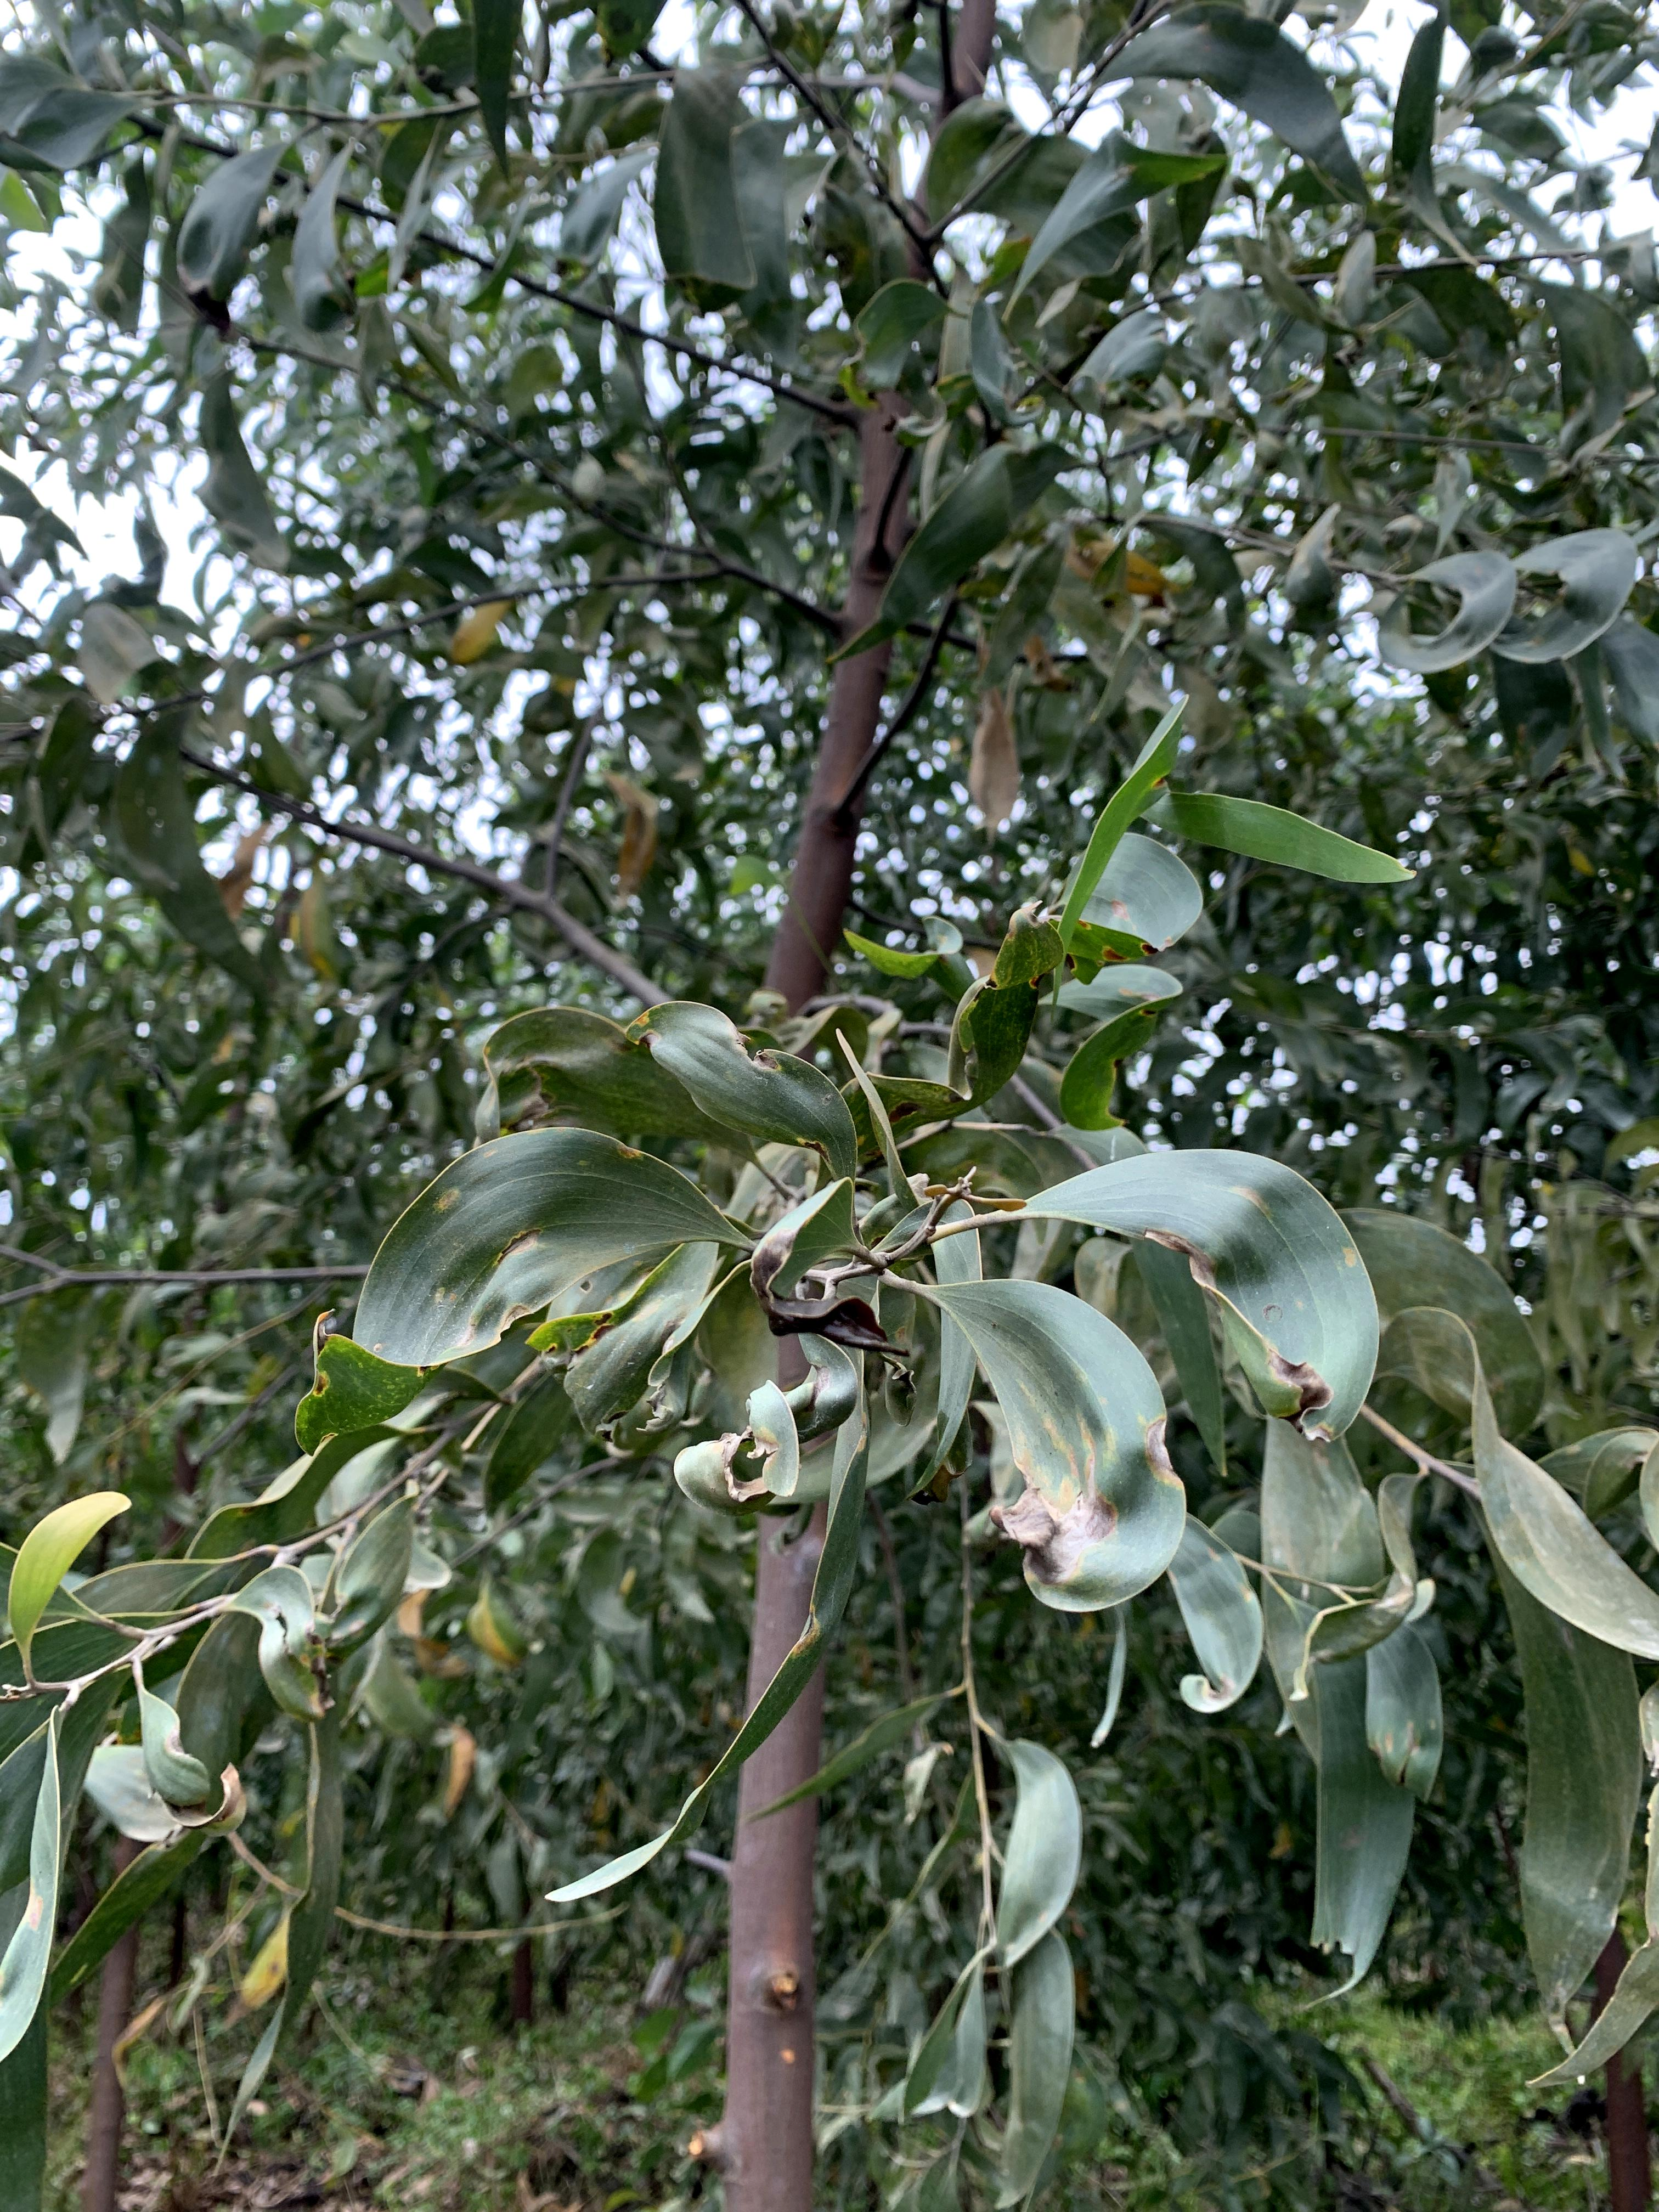Pasalora: (936, 1285, 1183, 1616), (1114, 1144, 1378, 1437), (1312, 1465, 1422, 1700), (741, 1226, 915, 1362), (127, 1667, 246, 1841), (685, 1393, 831, 1526), (232, 1575, 354, 1712)
